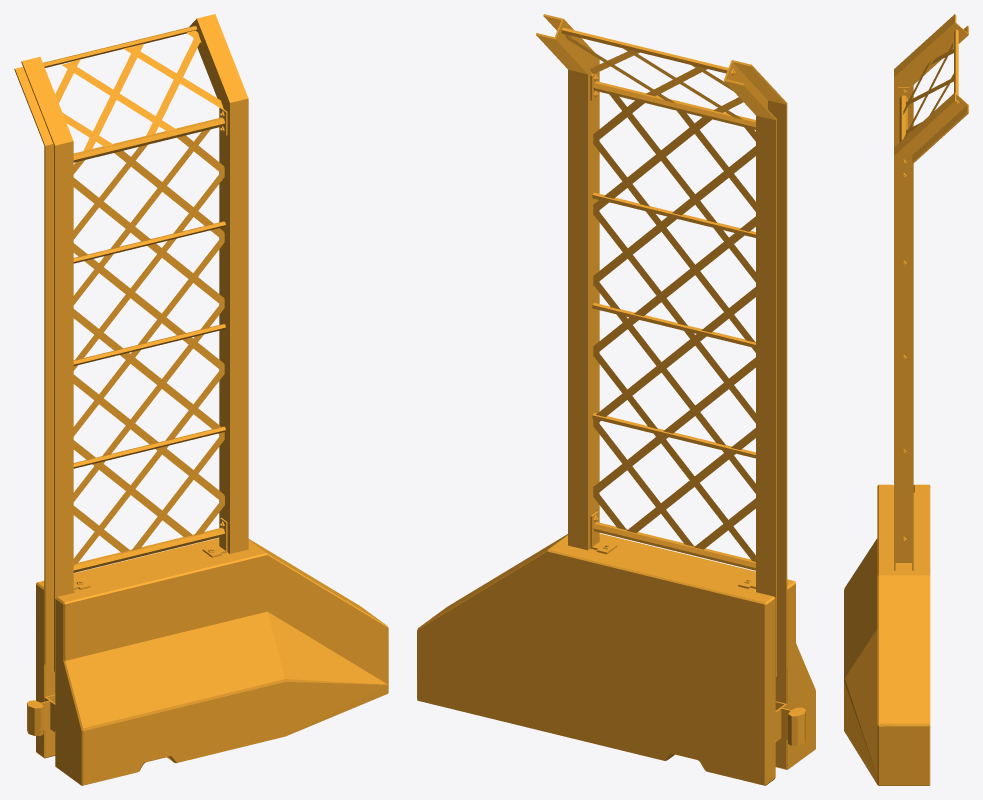
The model's file is SM_Fence_Road_Debrisguard_Net_2m_R.fbx.
The picture shows the model from 3 angles, left to right: view 1: azimuth 30°, elevation 25°; view 2: azimuth 150°, elevation 25°; view 3: azimuth 270°, elevation 25°; orthographic projection. The views are drawn at different scales.
Parts seen in each view (by area): view 1: SM_Fence_Road_Debrisguard_Net_2m_End_Male; view 2: SM_Fence_Road_Debrisguard_Net_2m_End_Male; view 3: SM_Fence_Road_Debrisguard_Net_2m_End_Male.
Boxes of the visible parts, x1=… form: SM_Fence_Road_Debrisguard_Net_2m_End_Male: x1=14, y1=14, x2=388, y2=785; SM_Fence_Road_Debrisguard_Net_2m_End_Male: x1=417, y1=14, x2=815, y2=785; SM_Fence_Road_Debrisguard_Net_2m_End_Male: x1=844, y1=14, x2=968, y2=785.
Size of the model in its own units: 2.13 by 4 by 0.7223.
